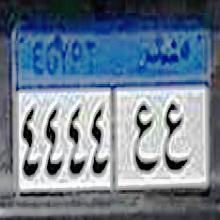4: (19, 102, 42, 184), (41, 104, 66, 178), (65, 104, 88, 178), (88, 103, 109, 177)
ain: (162, 97, 193, 176), (131, 98, 162, 174)
